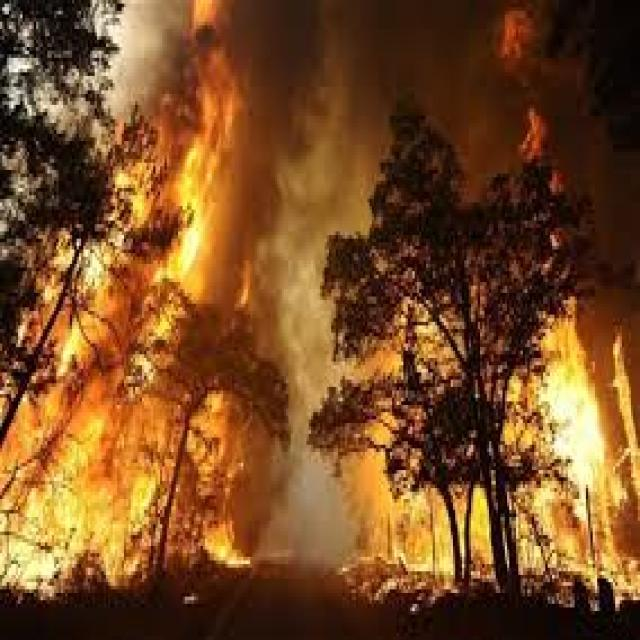Fire: (0, 4, 640, 611)
Smoke: (193, 4, 492, 527)
